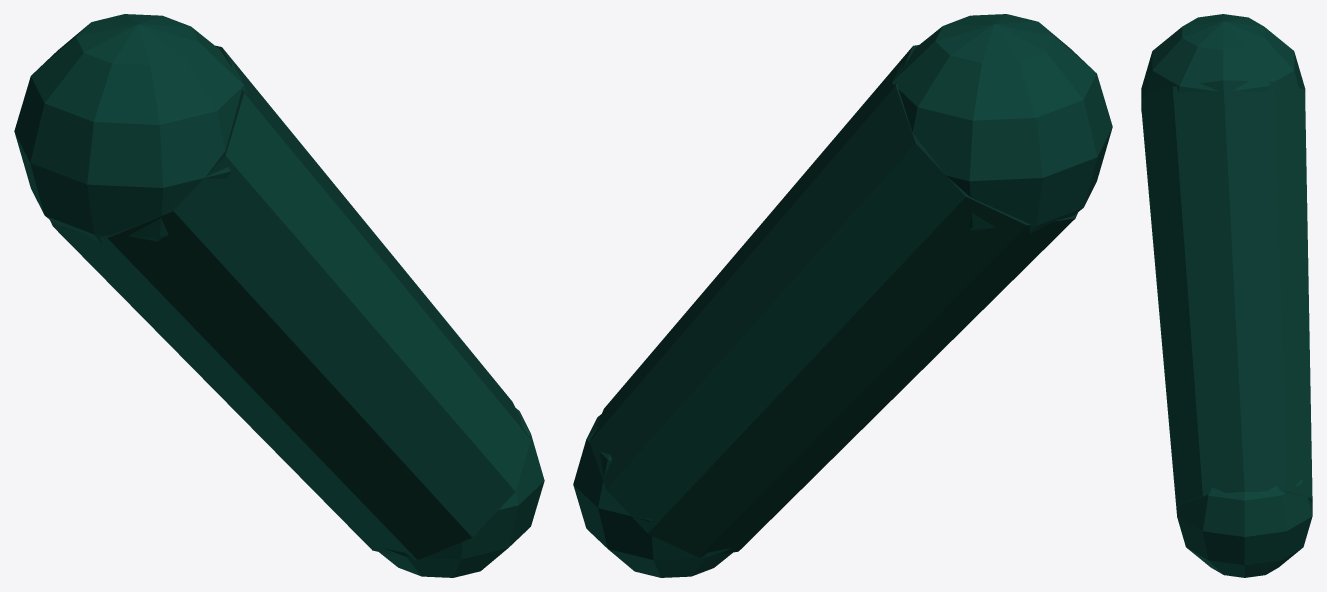
The model's file is SM_brachiosaurus_fore_l_Lower.fbx.
The picture shows the model from 3 angles, left to right: view 1: azimuth 30°, elevation 25°; view 2: azimuth 150°, elevation 25°; view 3: azimuth 270°, elevation 25°; orthographic projection. The views are drawn at different scales.
Parts seen in each view (by area): view 1: SM_brachiosaurus_fore_l_Lower export; view 2: SM_brachiosaurus_fore_l_Lower export; view 3: SM_brachiosaurus_fore_l_Lower export.
Boxes of the visible parts, box(x1,y1,x2,y2) form: SM_brachiosaurus_fore_l_Lower export: box(14, 14, 544, 577); SM_brachiosaurus_fore_l_Lower export: box(573, 14, 1112, 577); SM_brachiosaurus_fore_l_Lower export: box(1141, 14, 1312, 577).
Bounding box in the file's own units: 169 × 69.59 × 198.
